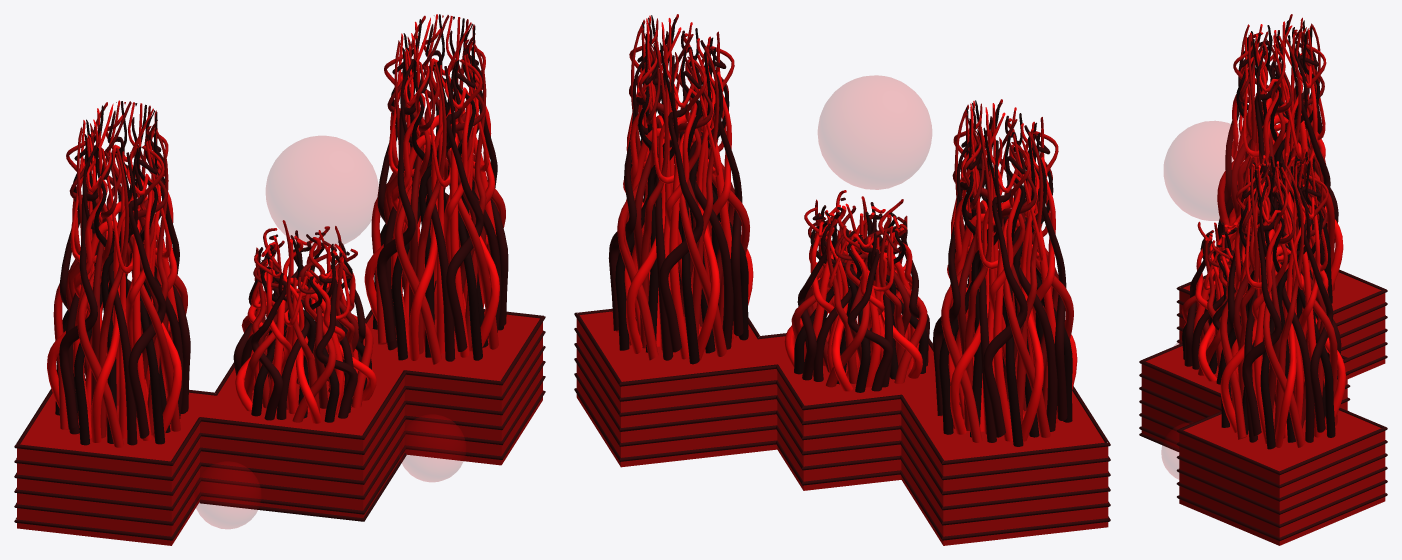
File: 0FF-Red-v2.glb
3 views of the same model, side by side, from view 1: azimuth 30°, elevation 25°; view 2: azimuth 150°, elevation 25°; view 3: azimuth 270°, elevation 25° (orthographic). The views are drawn at different scales.
Parts seen in each view (by area): view 1: RED.002; view 2: RED.002; view 3: RED.002.
Part boxes in pixels (x1,y1,x2,y2): RED.002: (14,14,545,545); RED.002: (574,14,1110,545); RED.002: (1139,14,1387,545).
Bounding box in the file's own units: 7.45 × 5.34 × 3.41.
Materials: 2 (1 with a texture image).
